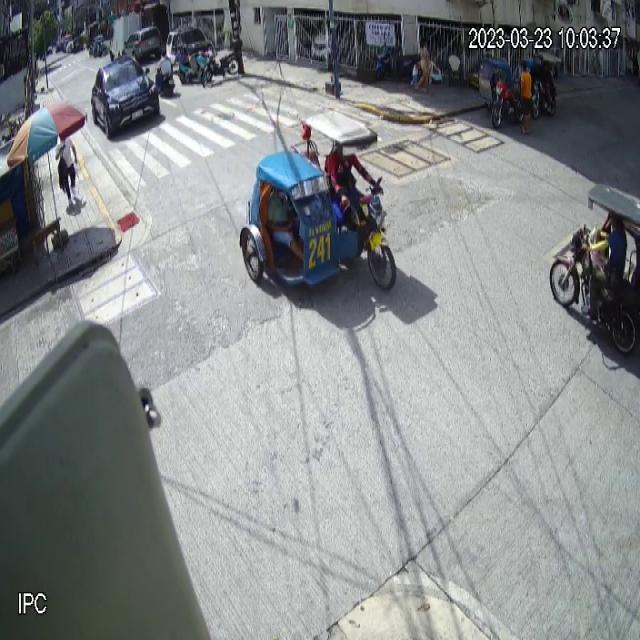Car: (90, 54, 160, 140)
Motorcycle: (238, 108, 398, 292)
Tricycle: (548, 181, 640, 356), (478, 55, 523, 128)
